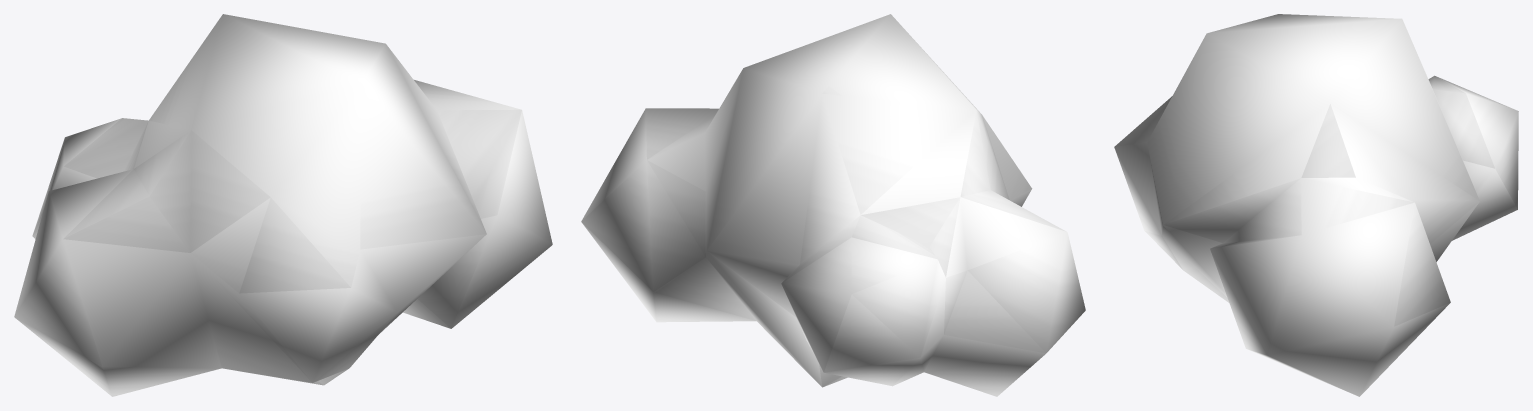
The model's file is GL-Cloud-02.fbx.
3 renders of one model, left to right at view 1: azimuth 30°, elevation 25°; view 2: azimuth 150°, elevation 25°; view 3: azimuth 270°, elevation 25°, orthographic. The views are drawn at different scales.
Visible parts, largest first — view 1: GL-Cloud-02; view 2: GL-Cloud-02; view 3: GL-Cloud-02.
Boxes of the visible parts, box(x1,y1,x2,y2) form: GL-Cloud-02: box(14, 14, 552, 396); GL-Cloud-02: box(581, 14, 1085, 396); GL-Cloud-02: box(1114, 14, 1518, 396).
Bounding box in the file's own units: 1.77 × 1.1 × 1.37.
